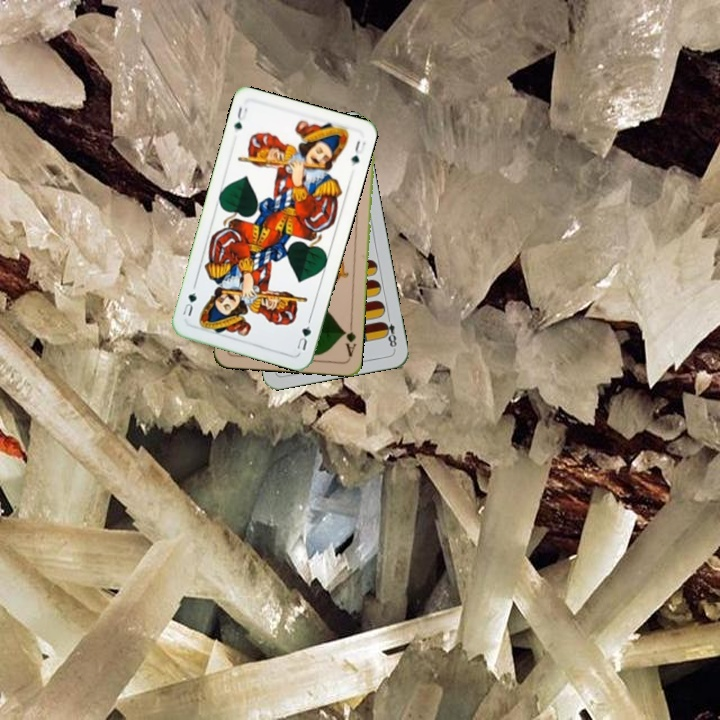E8: (379, 311, 399, 352)
GA: (339, 319, 358, 359)
GU: (230, 102, 250, 136), (293, 321, 314, 353)
